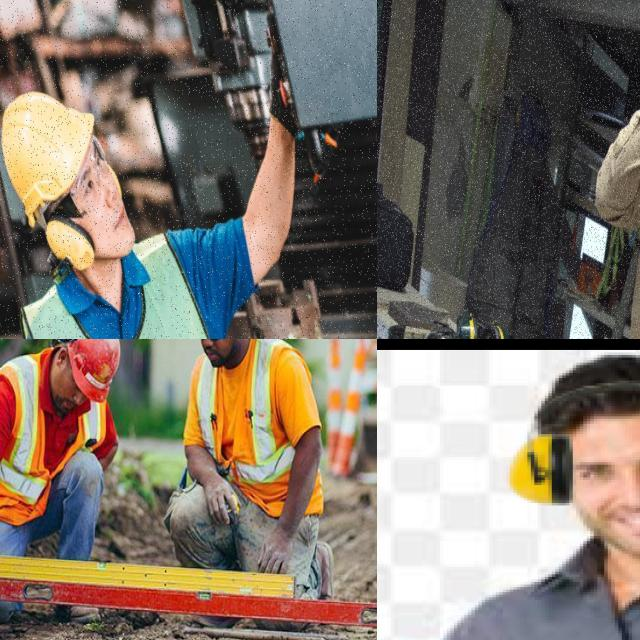Ear-protection: (484, 399, 640, 513), (40, 220, 94, 288)
face_nomask: (47, 364, 96, 417), (193, 339, 240, 371)
glasses: (194, 339, 229, 345)
hand_glove: (268, 42, 328, 175)
hand_noglove: (196, 475, 246, 530), (254, 525, 299, 580)
head_helmet: (0, 82, 110, 210), (65, 339, 122, 397)
person: (151, 339, 345, 599), (0, 339, 124, 619)
vest: (173, 345, 333, 517), (0, 400, 104, 523)
